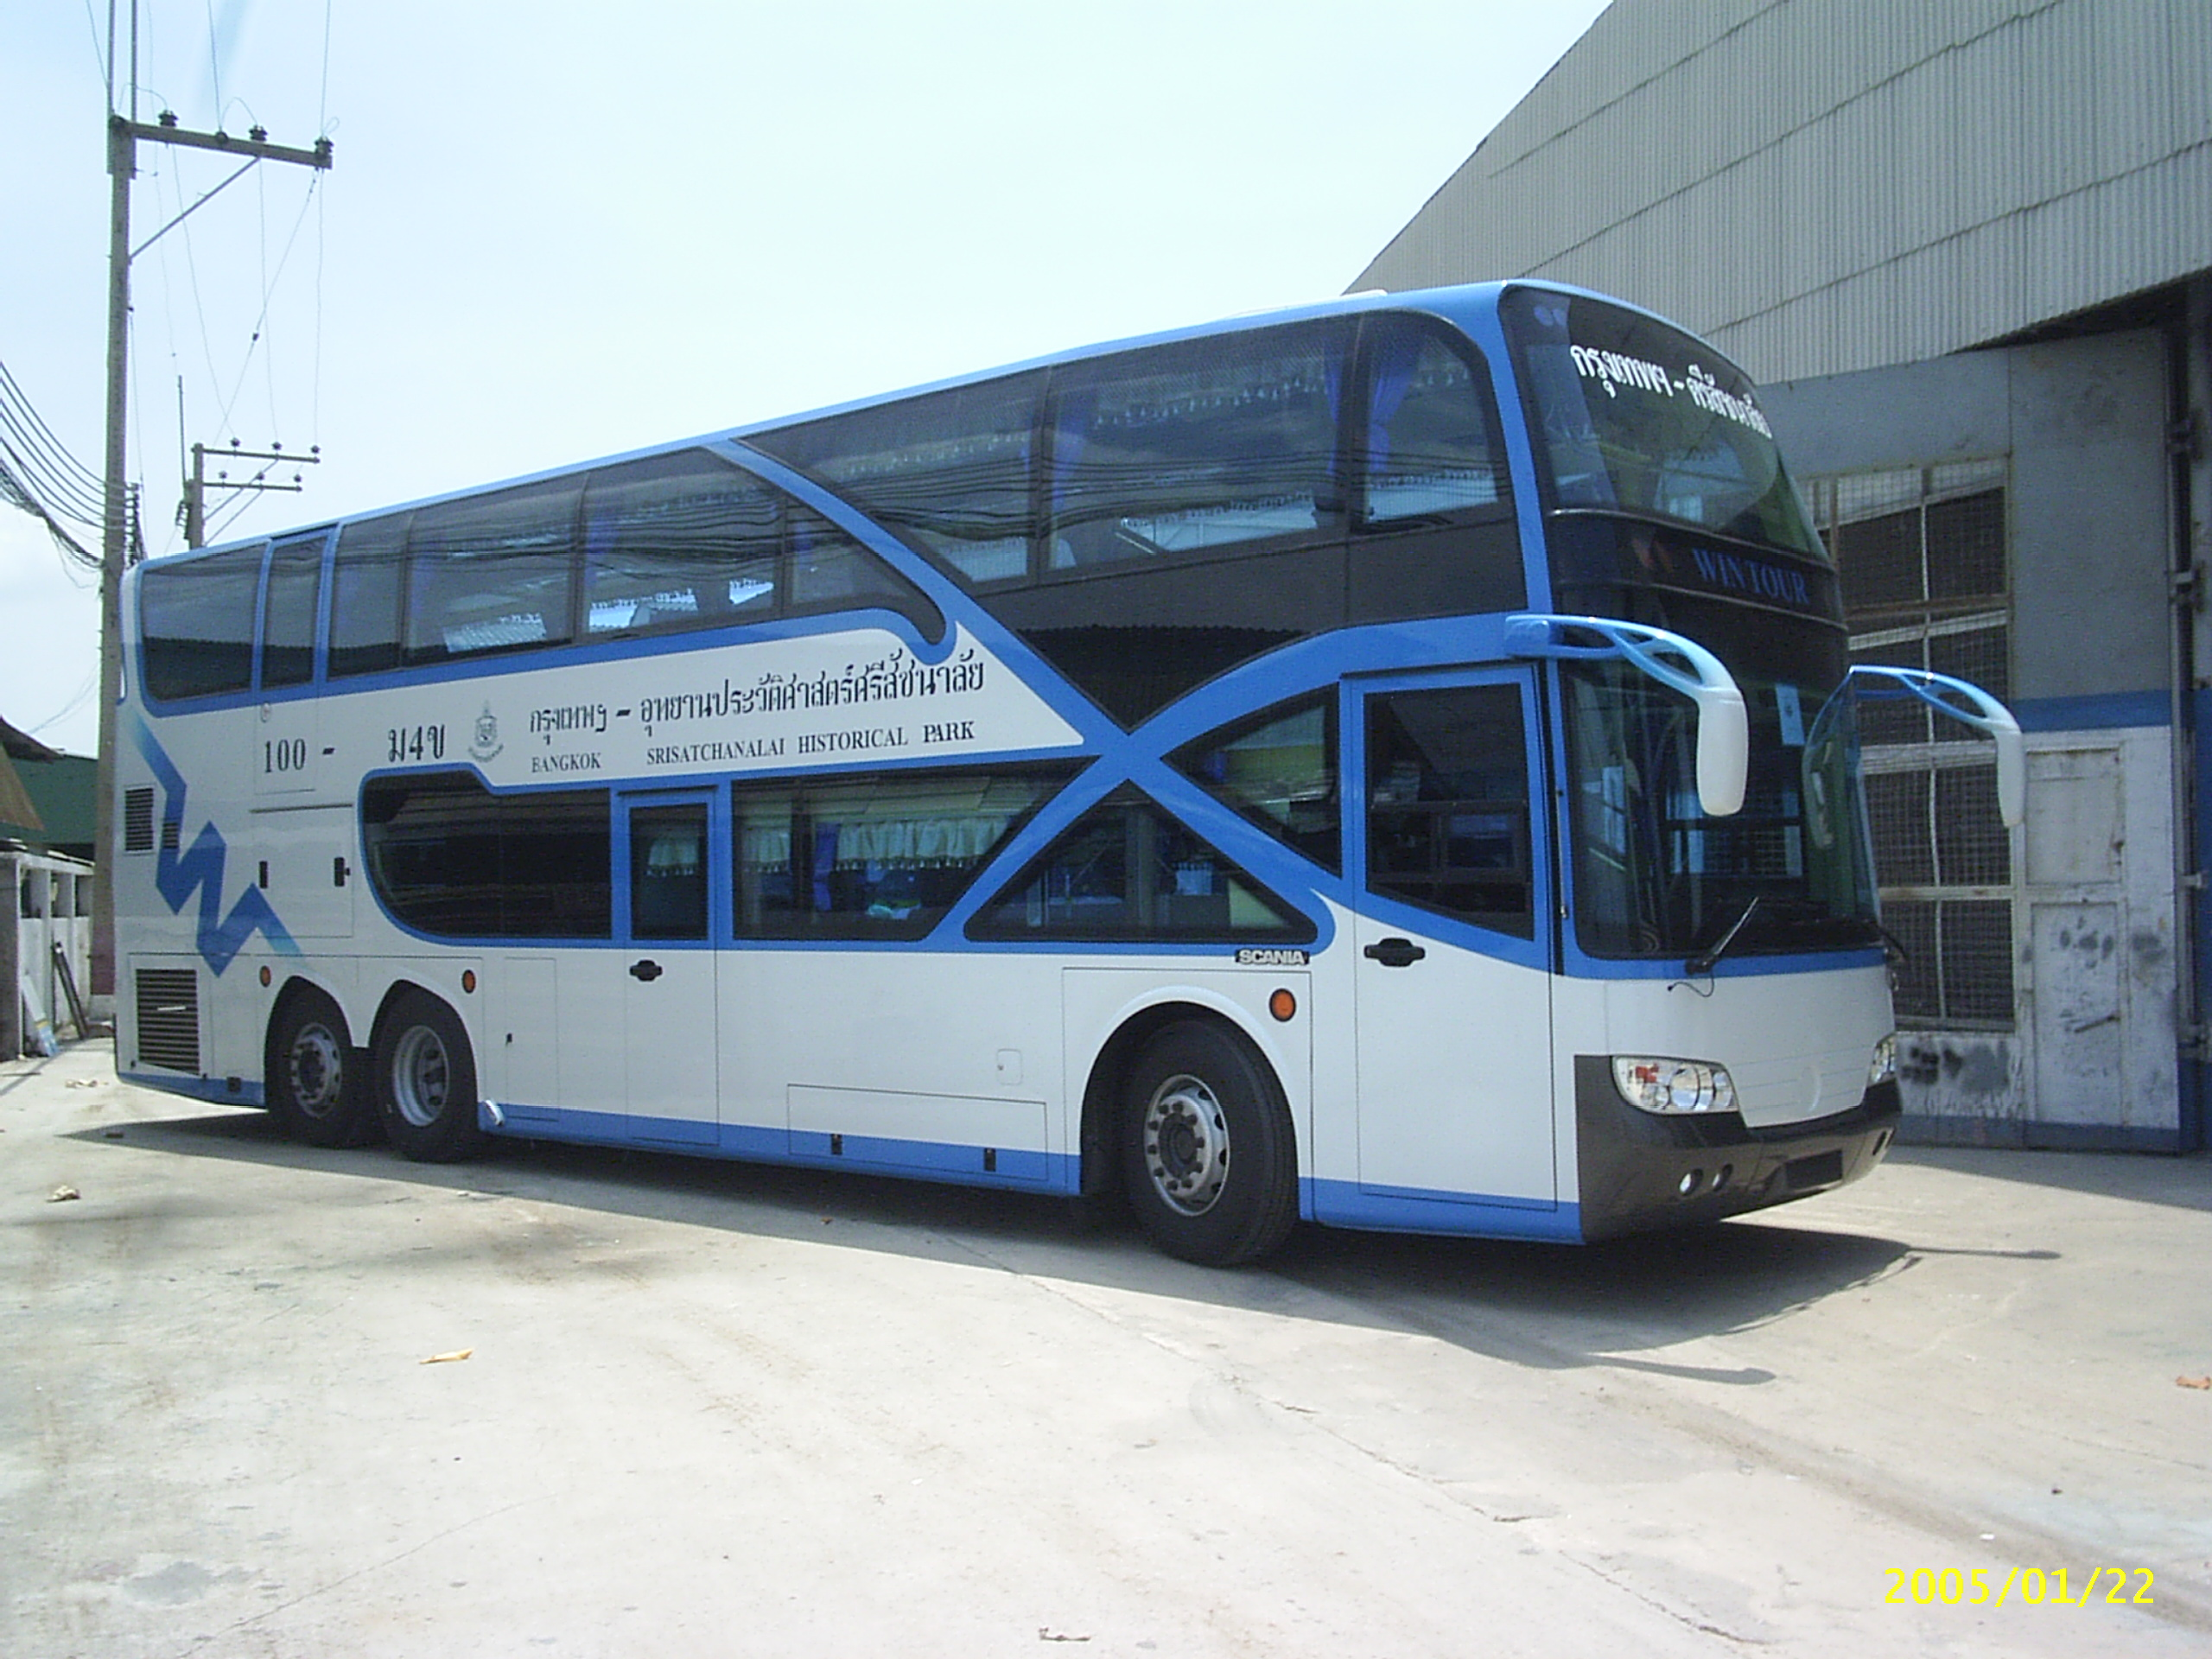bus: (108, 272, 1905, 1270)
